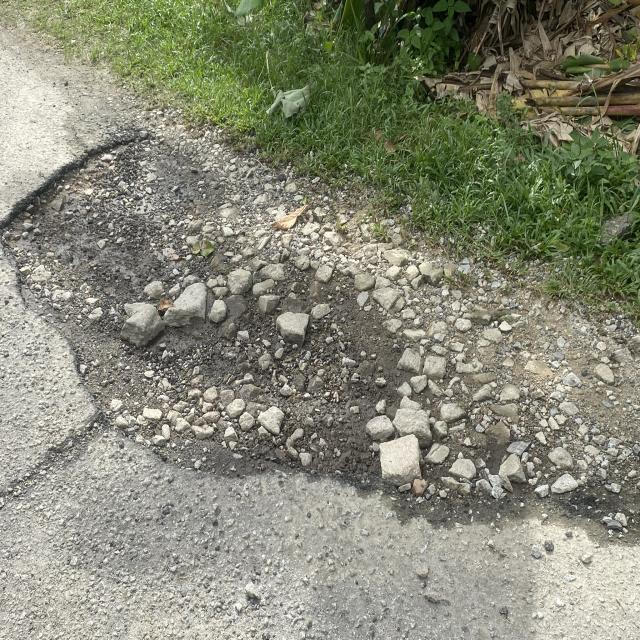pothole: (0, 101, 428, 530)
